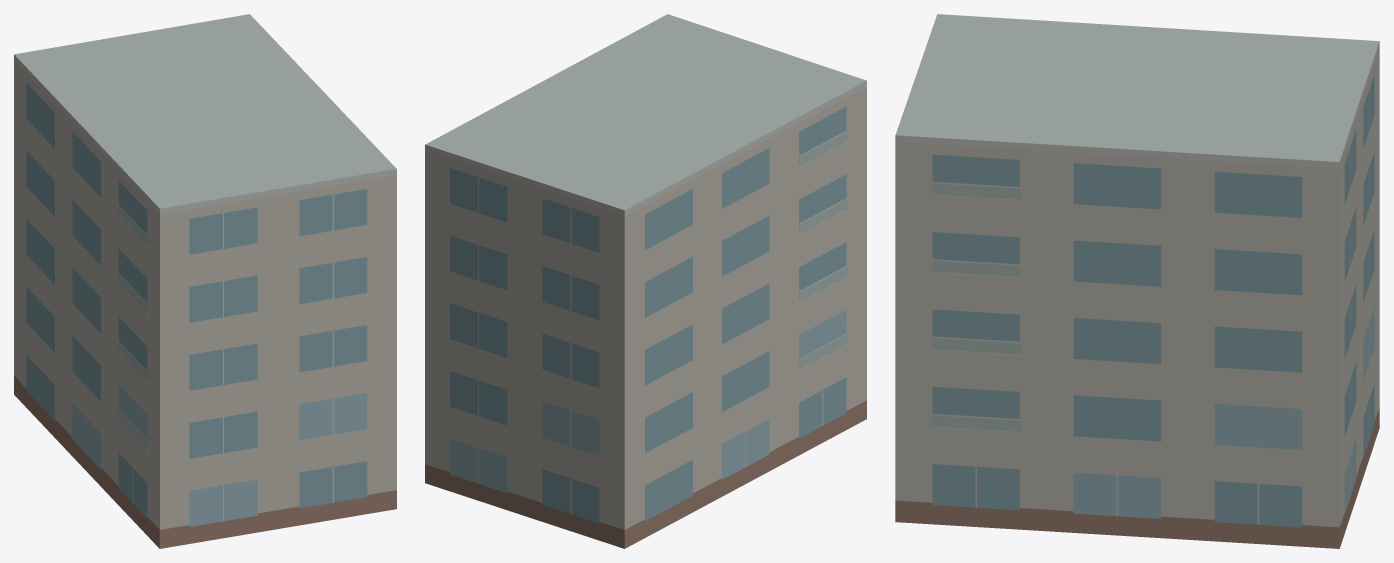
The model's file is survey-upis-32893375.glb.
3 renders of one model, left to right at view 1: azimuth 30°, elevation 25°; view 2: azimuth 150°, elevation 25°; view 3: azimuth 270°, elevation 25°, orthographic. The views are drawn at different scales.
Parts seen in each view (by area): view 1: survey-upis-32893375.tmp; view 2: survey-upis-32893375.tmp; view 3: survey-upis-32893375.tmp.
Part boxes in pixels (bbox=[...]): survey-upis-32893375.tmp: bbox=[14, 14, 396, 548]; survey-upis-32893375.tmp: bbox=[425, 14, 866, 548]; survey-upis-32893375.tmp: bbox=[895, 14, 1379, 548].
Size of the model in its own units: 11.67 by 14.2 by 16.12.
